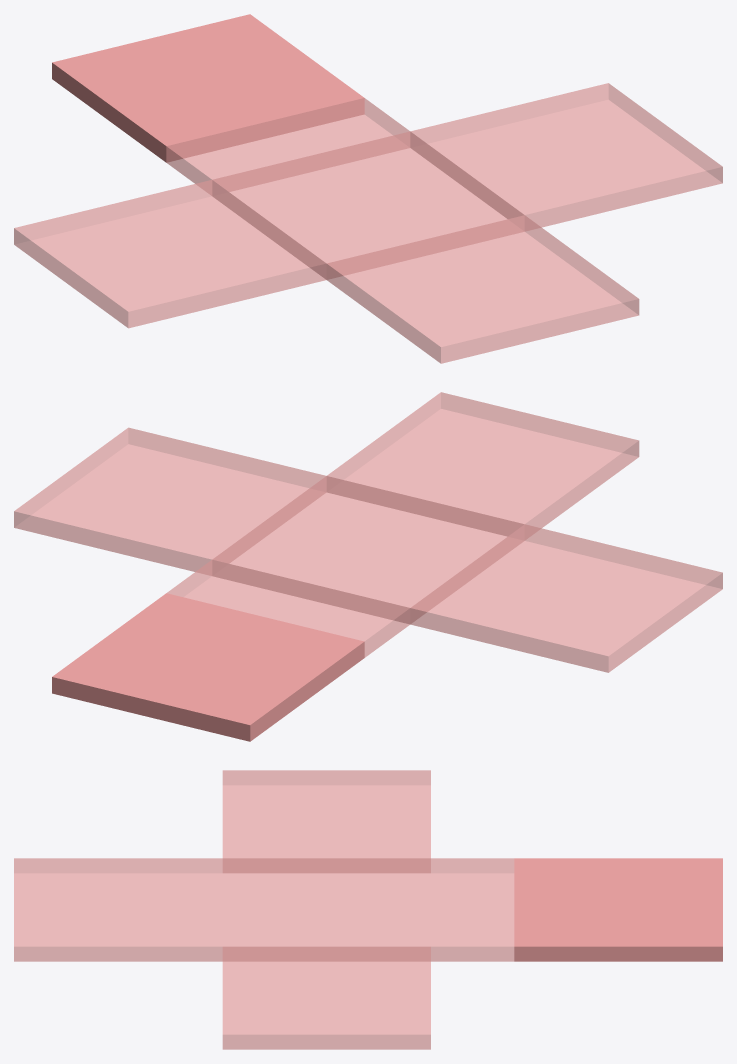
Rendered from cubo_3d_step7.glb.
3 renders of one model, top to bottom at view 1: azimuth 30°, elevation 25°; view 2: azimuth 150°, elevation 25°; view 3: azimuth 270°, elevation 25°, orthographic. The views are drawn at different scales.
Visible parts, largest first — view 1: quadrato_grande, quadrato_grande.003, quadrato_grande.005, quadrato_grande.001, quadrato_grande.002, quadrato_grande.004; view 2: quadrato_grande.005, quadrato_grande.003, quadrato_grande.002, quadrato_grande.001, quadrato_grande, quadrato_grande.004; view 3: quadrato_grande, quadrato_grande.005, quadrato_grande.002, quadrato_grande.001, quadrato_grande.003, quadrato_grande.004.
Part boxes in pixels (x1,y1,x2,y2): quadrato_grande: (326, 215, 639, 363); quadrato_grande.003: (14, 180, 326, 328); quadrato_grande.005: (52, 14, 364, 162); quadrato_grande.001: (212, 131, 524, 279); quadrato_grande.002: (410, 83, 722, 230); quadrato_grande.004: (99, 48, 409, 195); quadrato_grande.005: (52, 593, 364, 741); quadrato_grande.003: (410, 524, 722, 672); quadrato_grande.002: (14, 427, 326, 575); quadrato_grande.001: (212, 476, 524, 624); quadrato_grande: (327, 392, 639, 539); quadrato_grande.004: (98, 559, 410, 694); quadrato_grande: (14, 858, 222, 961); quadrato_grande.005: (514, 858, 722, 961); quadrato_grande.002: (222, 946, 430, 1049); quadrato_grande.001: (222, 858, 430, 961); quadrato_grande.003: (222, 770, 430, 872); quadrato_grande.004: (431, 858, 639, 961).
Size of the model in its own units: 3 by 0.08 by 3.4.
